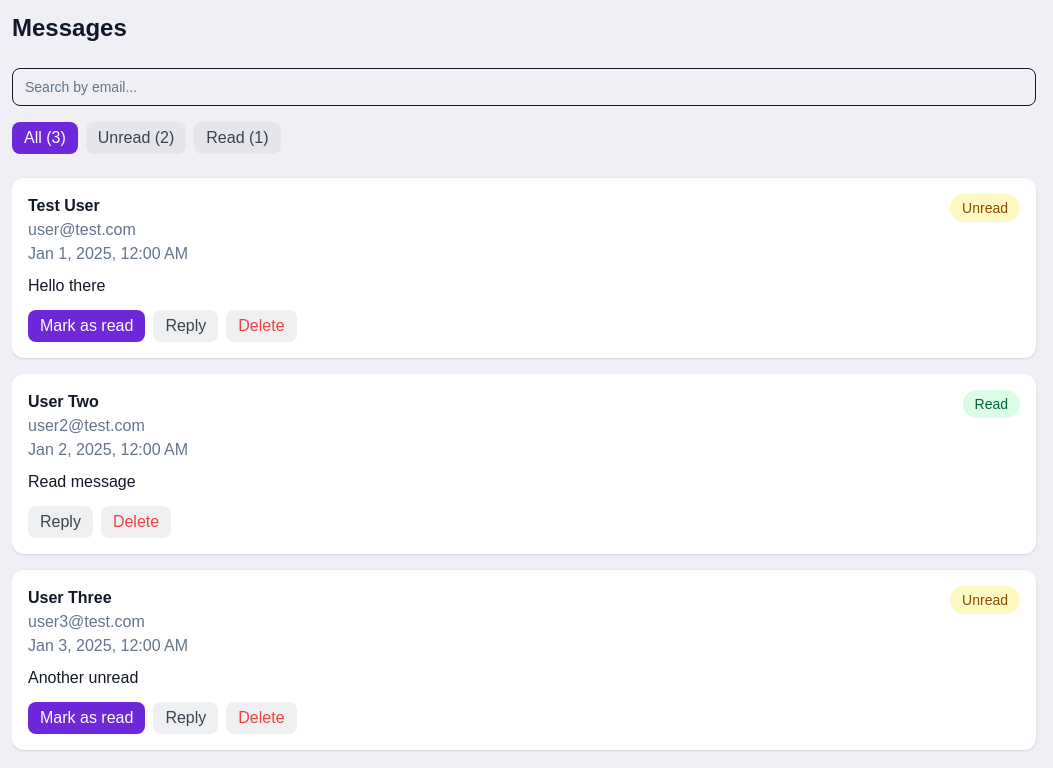
MessagesPanel › filters messages by status when tab is clicked
This screenshot has width=1053, height=768.
Click the button "Unread (2)" at [136, 138], box x1=86 y1=122 x2=186 y2=154
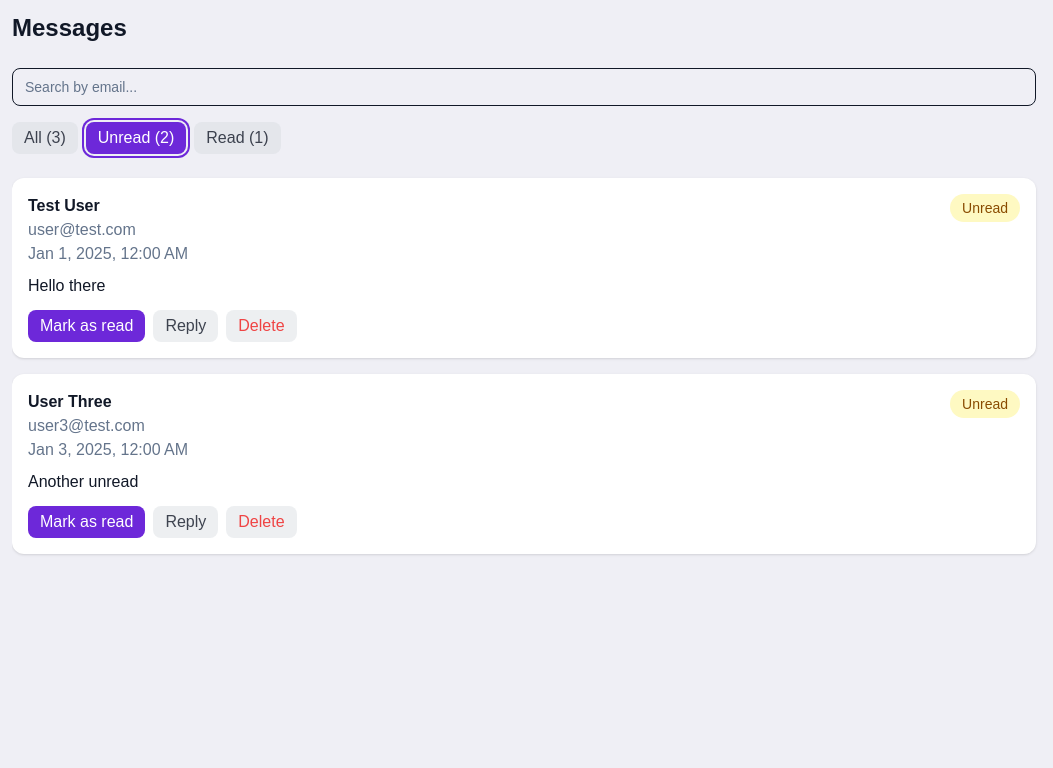
Check: the text "Hello there" is shown, box x1=28 y1=277 x2=105 y2=294
Check: the text "Read message" is gone
